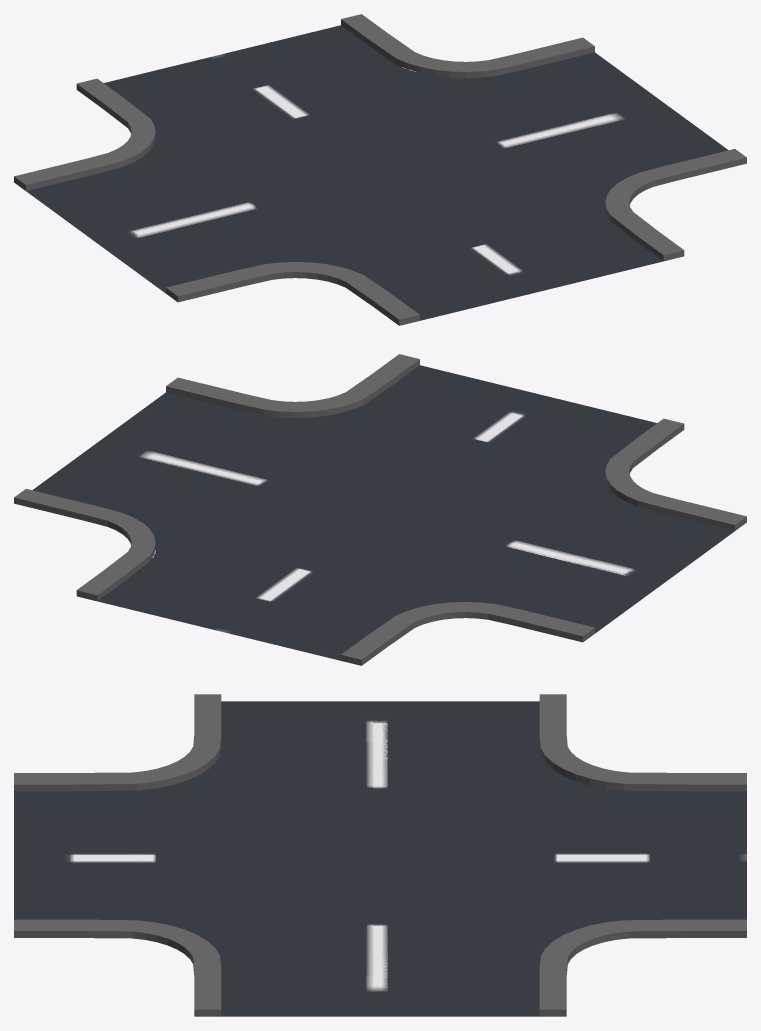
Rendered from intersection.fbx.
The picture shows the model from 3 angles, top to bottom: view 1: azimuth 30°, elevation 25°; view 2: azimuth 150°, elevation 25°; view 3: azimuth 270°, elevation 25°; orthographic projection. The views are drawn at different scales.
Parts seen in each view (by area): view 1: intersection road, intersection road.side; view 2: intersection road, intersection road.side; view 3: intersection road, intersection road.side.
Part boxes in pixels (left/top/right/bottom): intersection road: left=26, top=25, right=728, bottom=320; intersection road.side: left=14, top=14, right=746, bottom=325; intersection road: left=32, top=365, right=734, bottom=660; intersection road.side: left=14, top=354, right=746, bottom=665; intersection road: left=14, top=701, right=746, bottom=1016; intersection road.side: left=14, top=694, right=746, bottom=1016.
Bounding box in the file's own units: 5782 × 59.32 × 5680.
2 materials, 1 textured.
